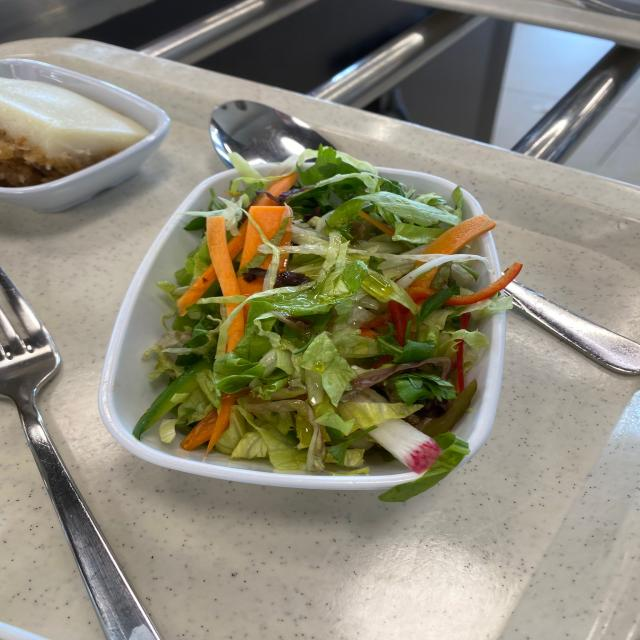yan_yemek: (121, 145, 515, 483)
